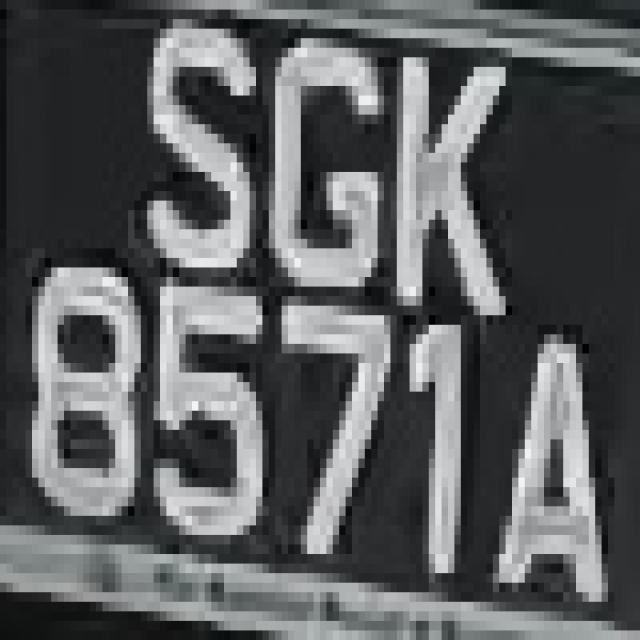1: (384, 306, 486, 611)
5: (147, 248, 269, 592)
7: (282, 277, 396, 573)
8: (13, 229, 147, 554)
A: (486, 277, 634, 640)
G: (243, 28, 384, 306)
K: (391, 28, 518, 324)
S: (128, 0, 256, 287)
